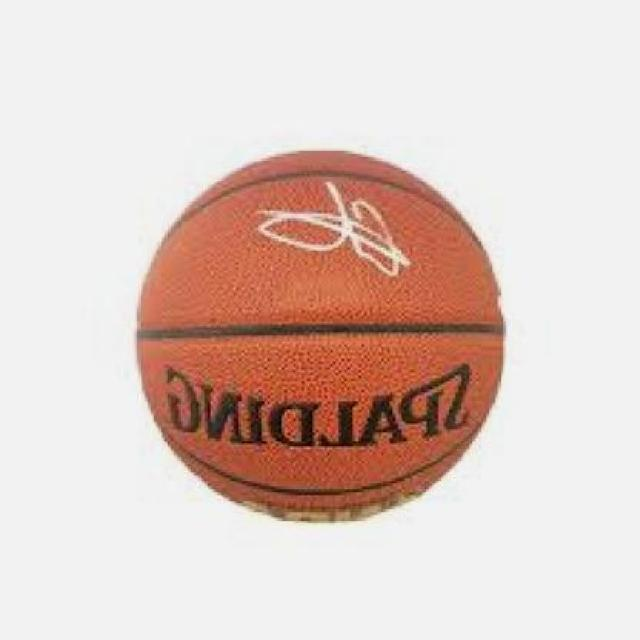Ball: (140, 154, 503, 525)
